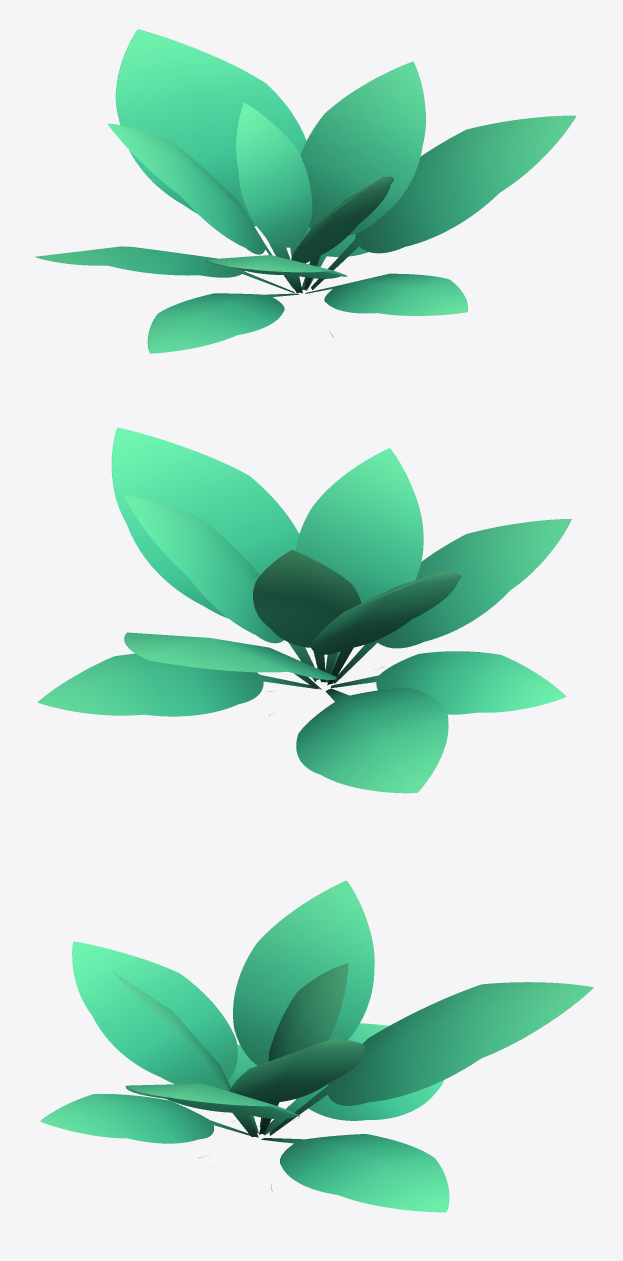
Rendered from Leaf_Wide_Green.fbx.
The picture shows the model from 3 angles, top to bottom: view 1: azimuth 30°, elevation 25°; view 2: azimuth 150°, elevation 25°; view 3: azimuth 270°, elevation 25°; orthographic projection. The views are drawn at different scales.
Parts seen in each view (by area): view 1: Leaf_Wide_Green; view 2: Leaf_Wide_Green; view 3: Leaf_Wide_Green.
Part boxes in pixels (x1,y1,x2,y2): Leaf_Wide_Green: [35, 29, 575, 353]; Leaf_Wide_Green: [37, 428, 571, 793]; Leaf_Wide_Green: [40, 880, 593, 1212].
Size of the model in its own units: 77.69 by 31.4 by 79.66.
